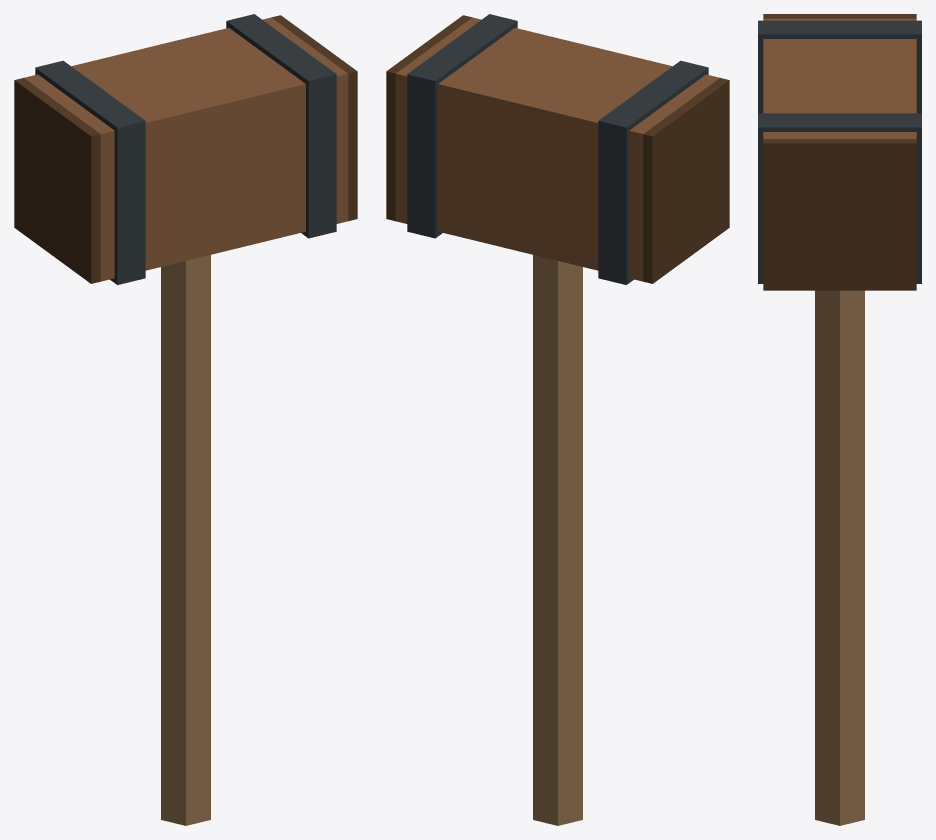
File: mallet.glb
3 renders of one model, left to right at view 1: azimuth 30°, elevation 25°; view 2: azimuth 150°, elevation 25°; view 3: azimuth 270°, elevation 25°, orthographic.
Parts seen in each view (by area): view 1: mallet; view 2: mallet; view 3: mallet.
Part boxes in pixels (x1=…): mallet: x1=14, y1=14, x2=357, y2=825; mallet: x1=386, y1=14, x2=729, y2=825; mallet: x1=758, y1=14, x2=921, y2=825.
Size of the model in its own units: 0.17 by 0.453 by 0.091.
Materials: 1 (1 with a texture image).
